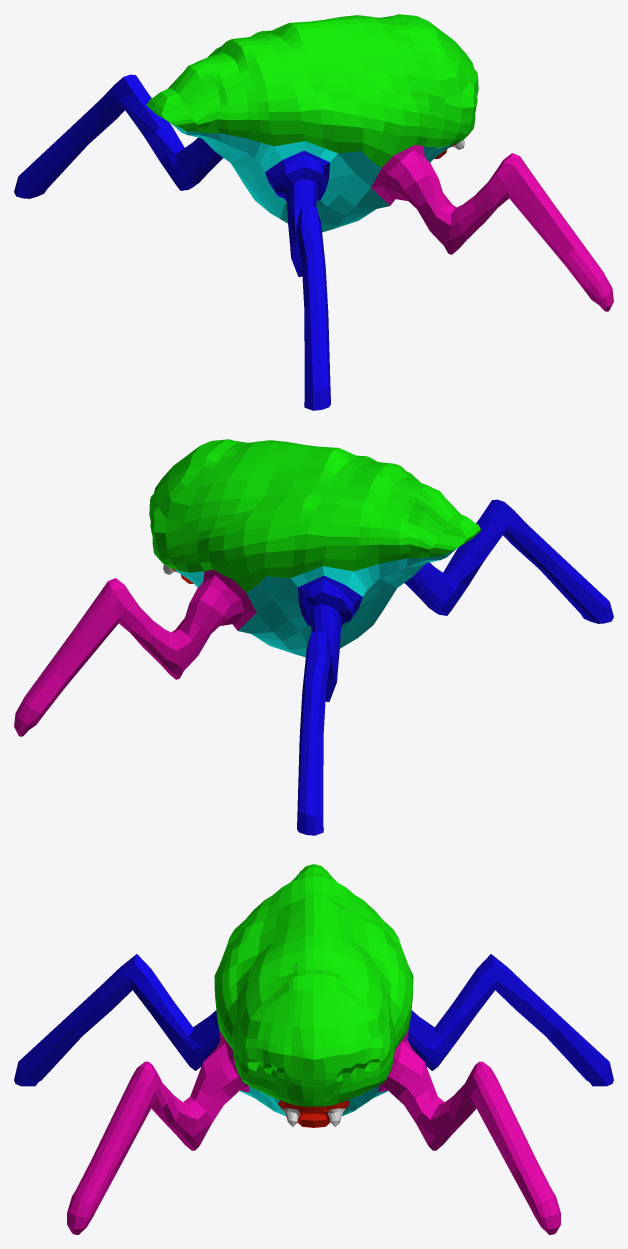
Rendered from RETOALBERT.fbx.
3 renders of one model, top to bottom at view 1: azimuth 30°, elevation 25°; view 2: azimuth 150°, elevation 25°; view 3: azimuth 270°, elevation 25°, orthographic.
Parts seen in each view (by area): view 1: Albert; view 2: Albert; view 3: Albert.
Boxes of the visible parts, x1=… form: Albert: x1=14, y1=14, x2=613, y2=410; Albert: x1=14, y1=439, x2=613, y2=835; Albert: x1=14, y1=864, x2=613, y2=1234.
Bounding box in the file's own units: 552 × 378 × 844.
